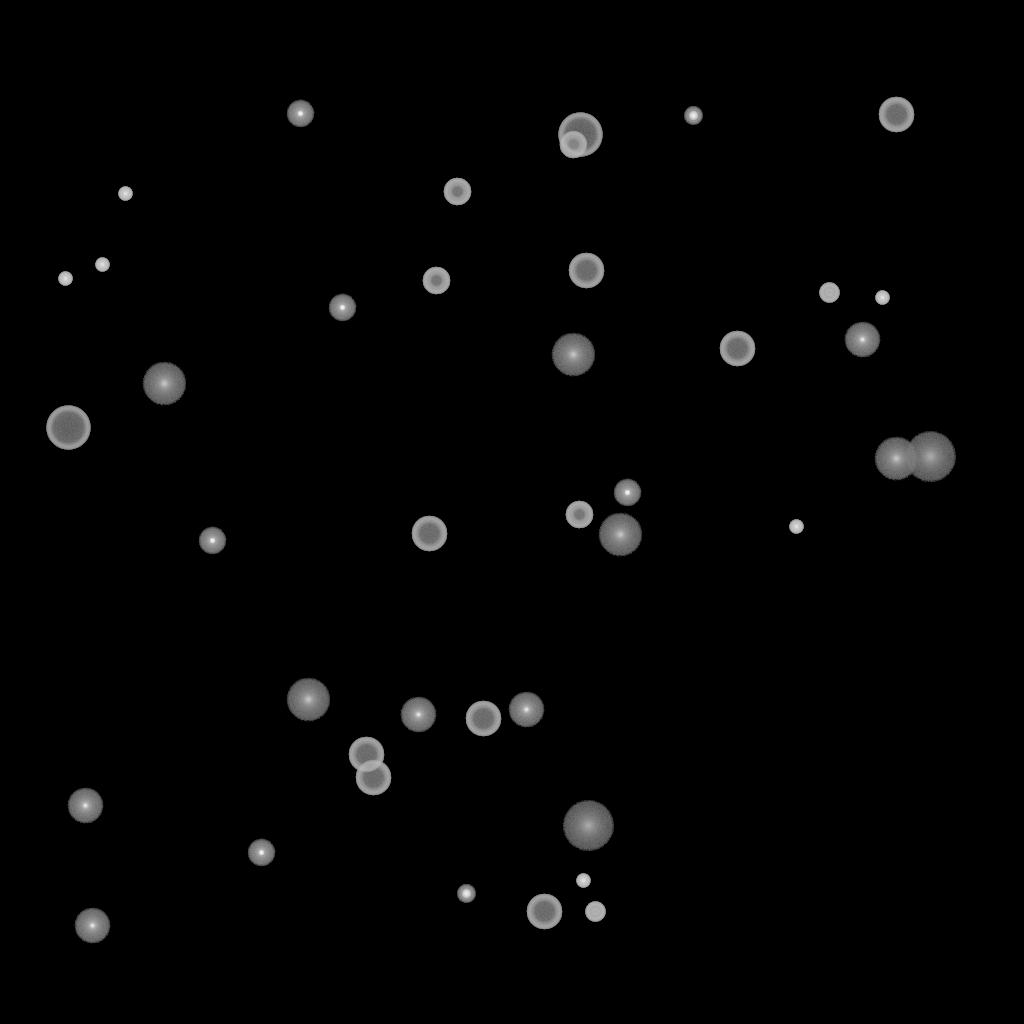depth:-10: (286, 100, 314, 128), (198, 527, 226, 555), (613, 479, 641, 507), (328, 294, 356, 322), (247, 839, 275, 867)
depth:-20: (684, 107, 702, 125), (457, 885, 475, 903)
depth:-30: (789, 520, 803, 534), (118, 187, 132, 201), (58, 272, 72, 286), (875, 291, 889, 305), (95, 258, 109, 272), (576, 874, 590, 888)
depth:-40: (819, 283, 839, 303), (585, 902, 605, 922)
depth:-50: (559, 131, 587, 159), (565, 501, 593, 529), (422, 267, 450, 295), (443, 178, 471, 206)
depth:-60: (526, 894, 562, 930), (355, 760, 391, 796), (719, 331, 755, 367), (568, 253, 604, 289), (878, 97, 914, 133), (465, 701, 501, 737), (411, 516, 447, 552), (348, 737, 384, 773)
depth:-70: (558, 113, 602, 157), (46, 406, 90, 450)
depth:0: (400, 697, 436, 733), (74, 908, 110, 944), (67, 788, 103, 824), (844, 322, 880, 358), (508, 692, 544, 728)
depth:10: (142, 362, 186, 406), (598, 513, 642, 557), (874, 437, 918, 481), (551, 333, 595, 377), (286, 678, 330, 722)
depth:20: (562, 801, 614, 851), (904, 432, 956, 482)
